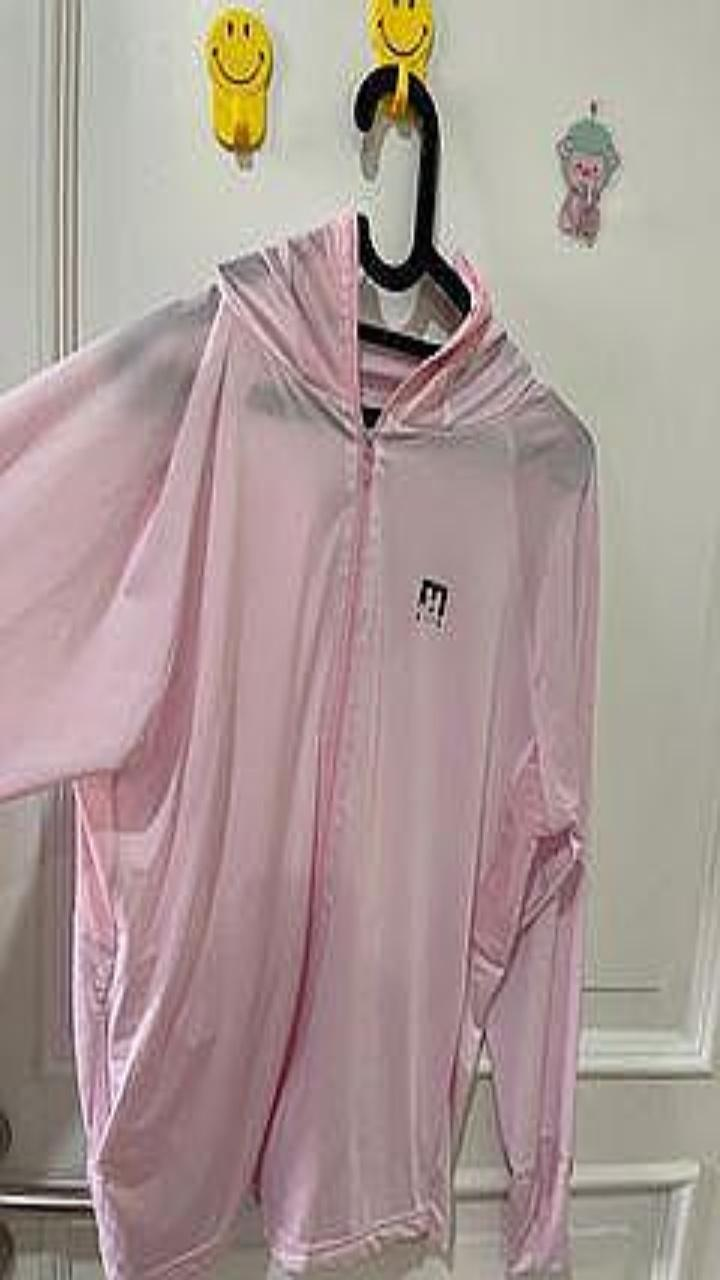Sports_Jacket: (0, 207, 598, 1279)
